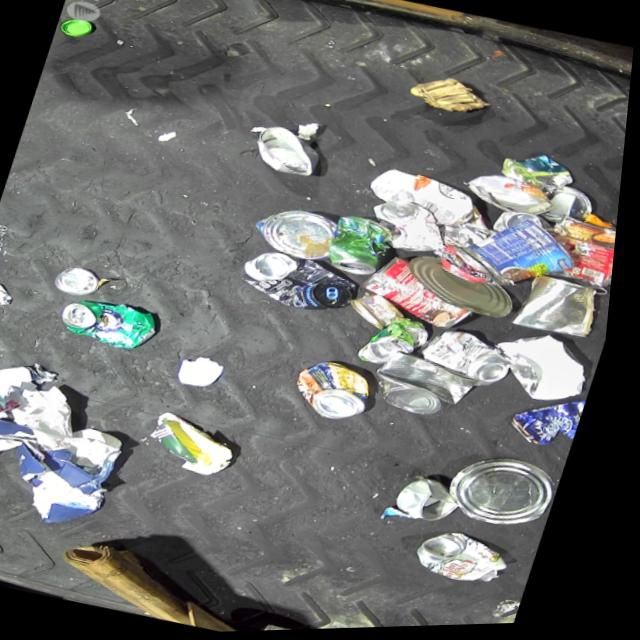can: (458, 209, 594, 305), (448, 447, 576, 541), (359, 250, 494, 338), (239, 243, 369, 322), (372, 346, 492, 428), (404, 251, 531, 325), (419, 525, 528, 594), (514, 271, 614, 345), (421, 325, 526, 394), (59, 291, 170, 356), (294, 355, 387, 427), (365, 195, 462, 263), (545, 214, 623, 295), (252, 200, 346, 266), (512, 388, 595, 455), (464, 170, 565, 224), (326, 215, 402, 283), (247, 121, 330, 182), (362, 312, 440, 375), (403, 474, 477, 530), (350, 289, 416, 337), (543, 185, 603, 232), (495, 208, 561, 246), (57, 261, 109, 299), (270, 619, 366, 633)
